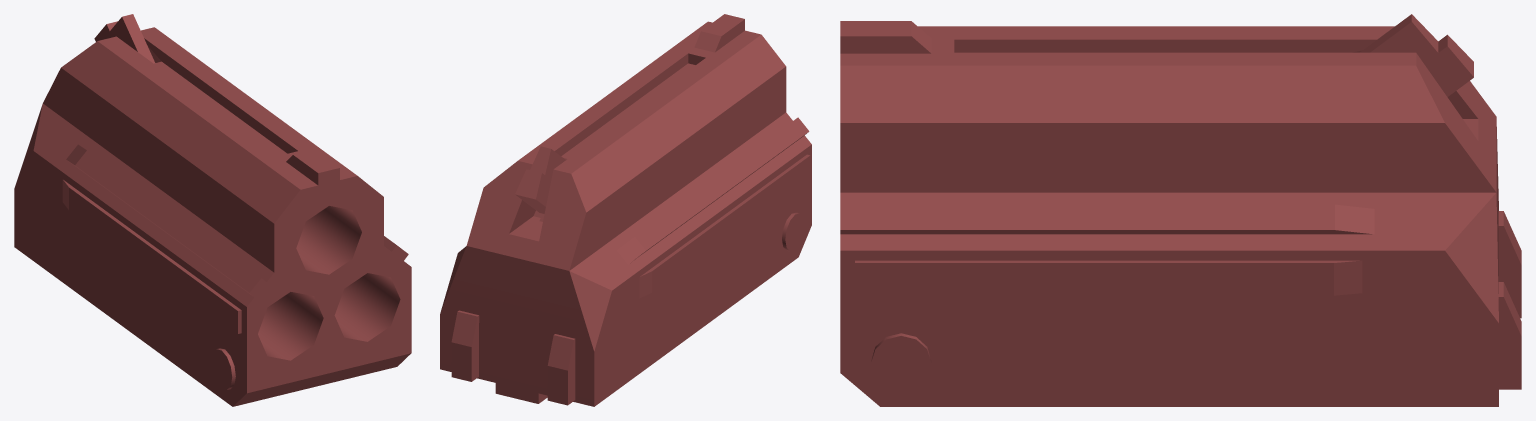
Rendered from WM0_Cannon_x3_LVL1.FBX.
3 renders of one model, left to right at view 1: azimuth 30°, elevation 25°; view 2: azimuth 150°, elevation 25°; view 3: azimuth 270°, elevation 25°, orthographic. The views are drawn at different scales.
Visible parts, largest first — view 1: WM0_Cannon_x3_LVL1; view 2: WM0_Cannon_x3_LVL1; view 3: WM0_Cannon_x3_LVL1.
Part boxes in pixels (left/top/right/bottom): WM0_Cannon_x3_LVL1: left=14, top=14, right=411, bottom=406; WM0_Cannon_x3_LVL1: left=440, top=14, right=811, bottom=406; WM0_Cannon_x3_LVL1: left=840, top=14, right=1521, bottom=406.
Bounding box in the file's own units: 11.75 × 16.05 × 28.45.
